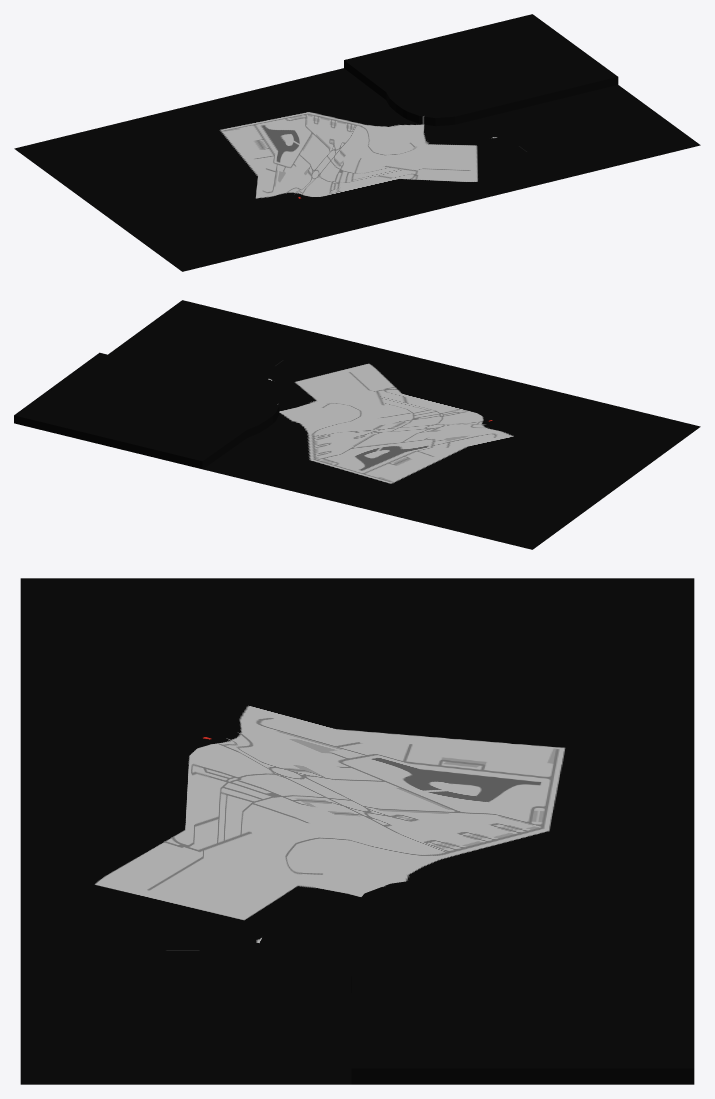
File: plano_unifei_1.0.fbx
3 views of the same model, one above another, from view 1: azimuth 30°, elevation 25°; view 2: azimuth 150°, elevation 25°; view 3: azimuth 270°, elevation 25° (orthographic). The views are drawn at different scales.
Parts seen in each view (by area): view 1: Plane.001; view 2: Plane.001; view 3: Plane.001.
Part boxes in pixels (bbox=[...]): Plane.001: bbox=[14, 14, 700, 271]; Plane.001: bbox=[14, 300, 700, 549]; Plane.001: bbox=[20, 578, 694, 1084].
Bounding box in the file's own units: 2304 × 34 × 1296.
